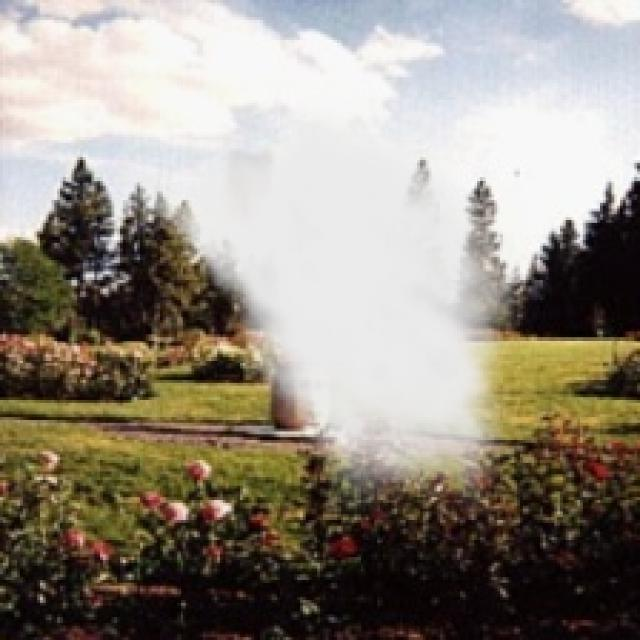Smoke: (109, 94, 528, 520)
